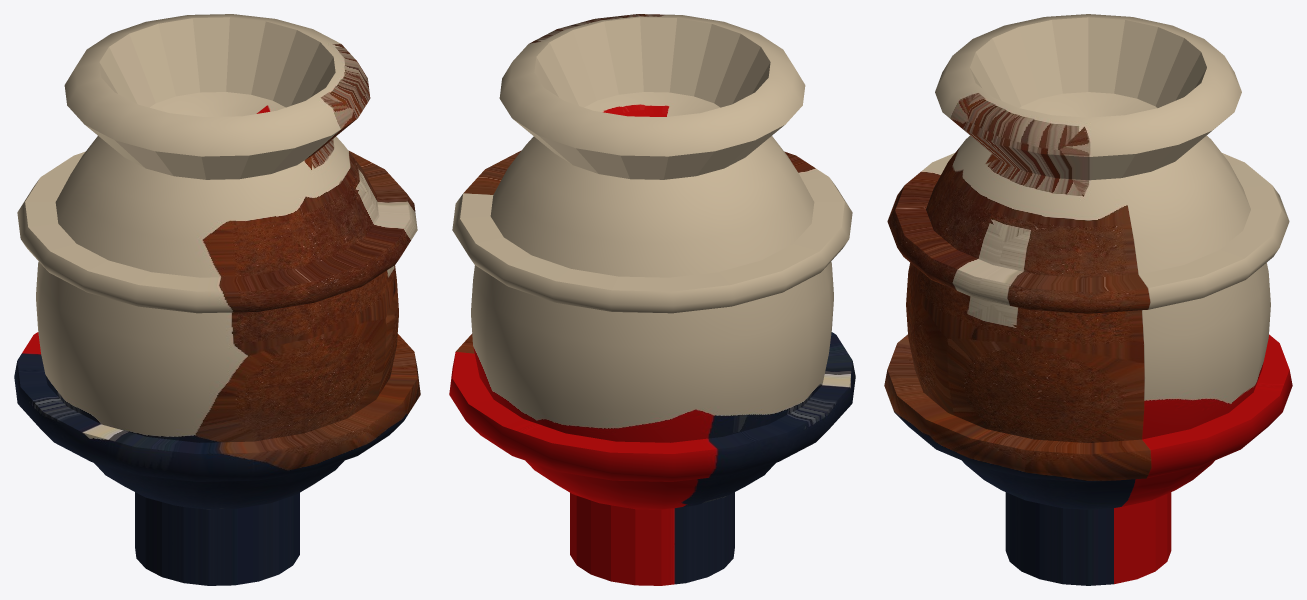
The model's file is machine-part-1.fbx.
3 renders of one model, left to right at view 1: azimuth 30°, elevation 25°; view 2: azimuth 150°, elevation 25°; view 3: azimuth 270°, elevation 25°, orthographic.
Parts seen in each view (by area): view 1: pSphere1; view 2: pSphere1; view 3: pSphere1.
Boxes of the visible parts, <box> form: pSphere1: <box>14,14,420,585</box>; pSphere1: <box>449,14,855,585</box>; pSphere1: <box>884,14,1292,585</box>.
Bounding box in the file's own units: 14.37 × 19.05 × 14.37.
